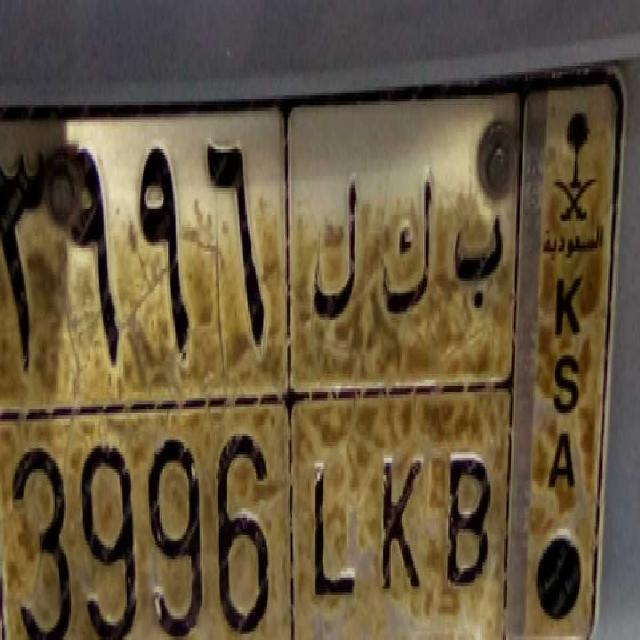license_plate: (0, 393, 502, 640)
